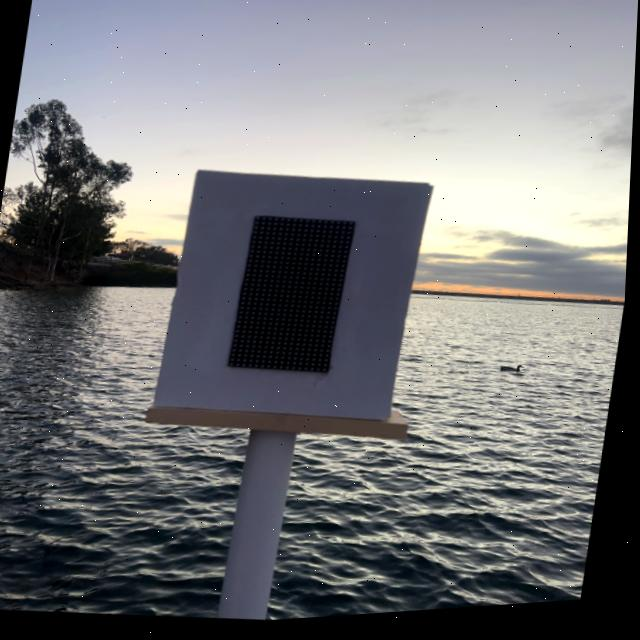led: (187, 178, 394, 423)
